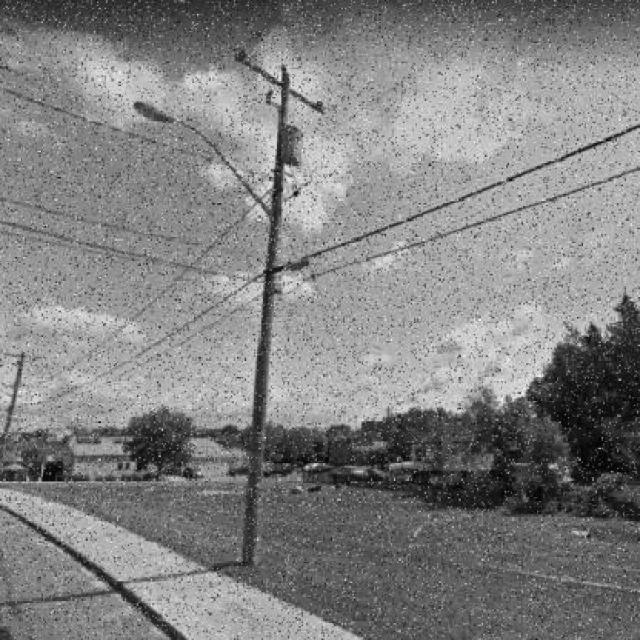crossarm: (237, 55, 321, 114)
pole: (239, 72, 288, 565)
wire: (276, 123, 638, 275), (20, 188, 273, 388), (308, 164, 640, 281), (15, 269, 264, 408), (3, 85, 273, 183), (72, 291, 263, 394), (0, 196, 268, 263), (1, 219, 265, 286)
